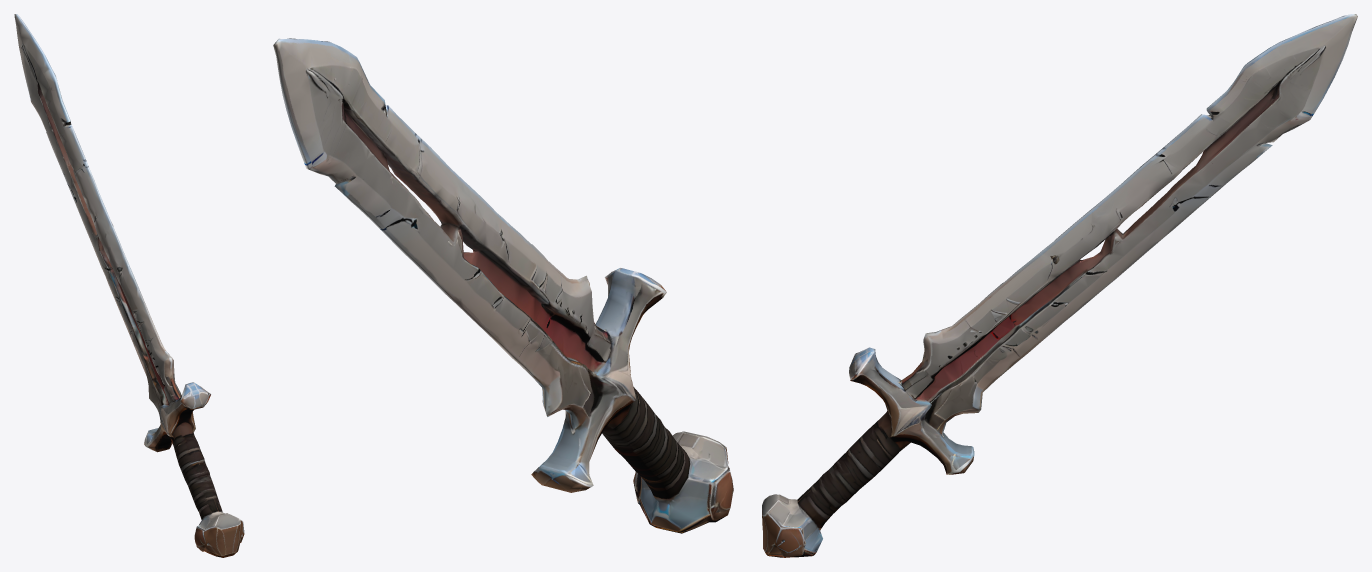
Rendered from stylized+cursed+sword+.obj.
3 renders of one model, left to right at view 1: azimuth 30°, elevation 25°; view 2: azimuth 150°, elevation 25°; view 3: azimuth 270°, elevation 25°, orthographic. The views are drawn at different scales.
Visible parts, largest first — view 1: tripo_node_884df5b6-8c9d-4917-8e17-2464125ea0e6; view 2: tripo_node_884df5b6-8c9d-4917-8e17-2464125ea0e6; view 3: tripo_node_884df5b6-8c9d-4917-8e17-2464125ea0e6.
Part boxes in pixels (box(x1,y1,x2,y2)): tripo_node_884df5b6-8c9d-4917-8e17-2464125ea0e6: box(14, 14, 244, 557); tripo_node_884df5b6-8c9d-4917-8e17-2464125ea0e6: box(273, 38, 733, 533); tripo_node_884df5b6-8c9d-4917-8e17-2464125ea0e6: box(762, 14, 1357, 557).
Bounding box in the file's own units: 0.1207 × 0.9994 × 0.9986.
1 material, 1 textured.
